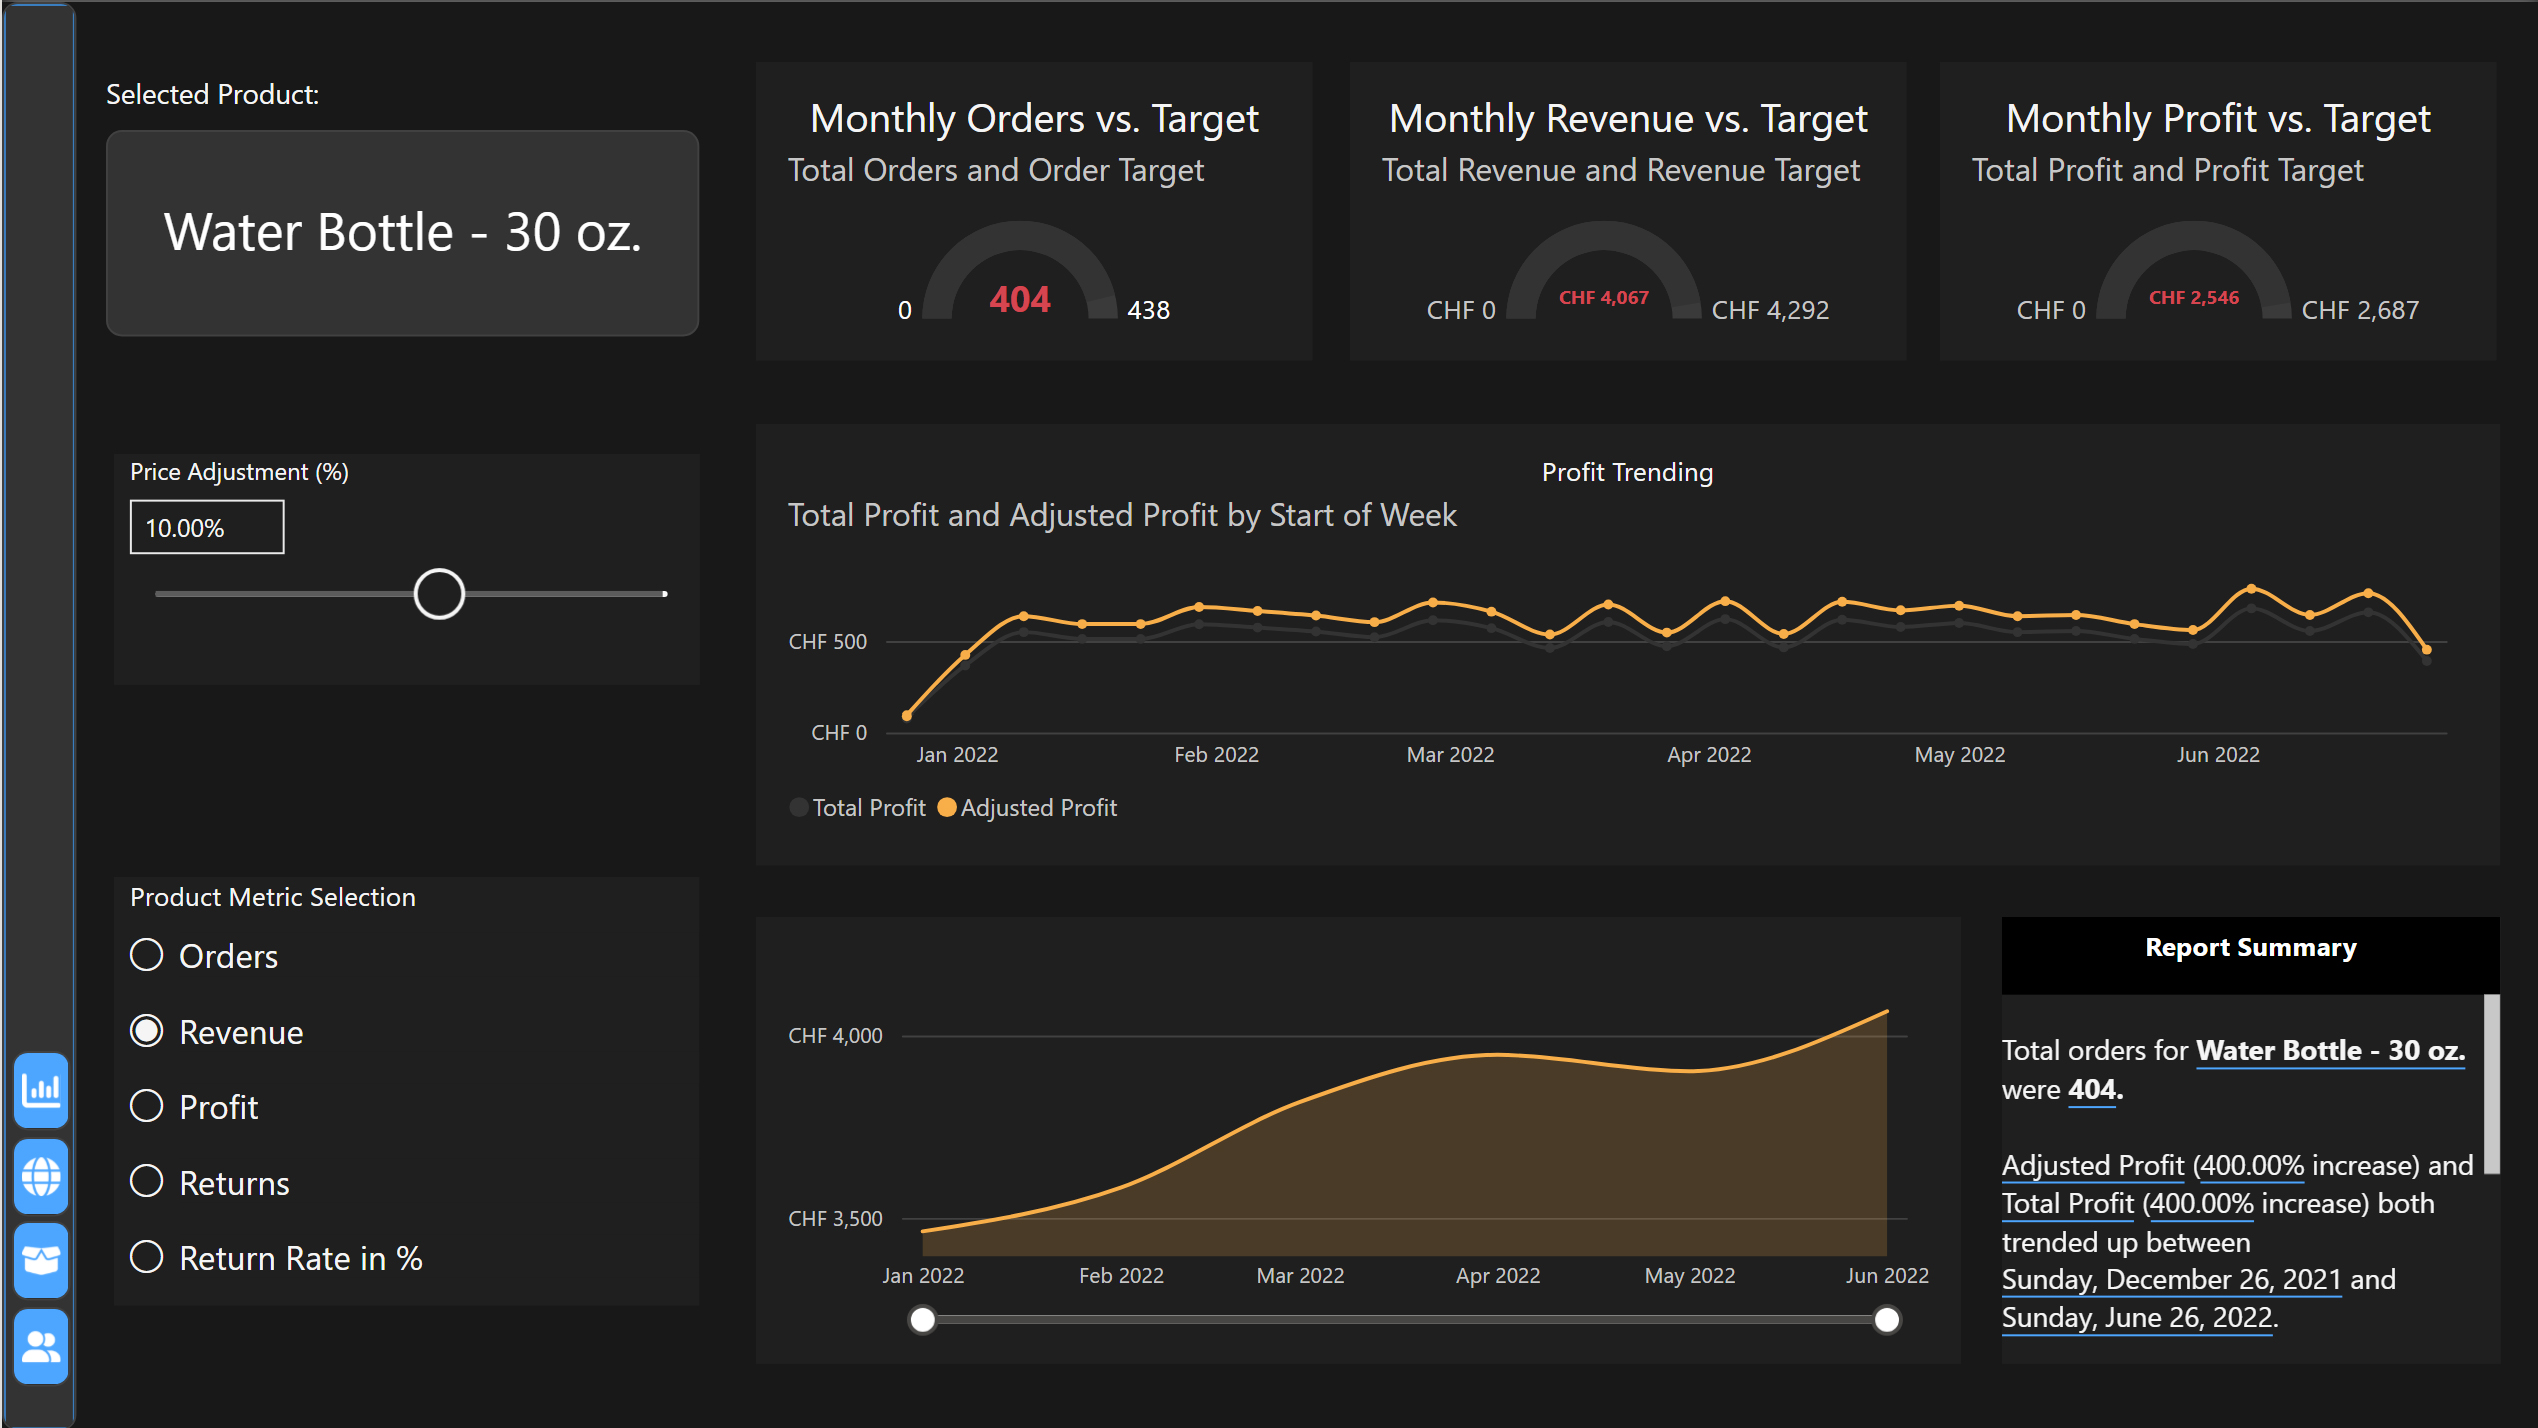

The page's visual inventory and layout, read from the dashboard file:
{"tool":"powerbi","page":{"name":"Product Detail","canvas":[1280,720],"ordinal":2},"visuals":[{"type":"shape","title":"Left Nav Background","box":[0,0,37.7,719.7],"z":0},{"type":"actionButton","box":[4.7,527.8,29.6,39.8],"z":0,"group":"g1"},{"type":"gauge","title":"Monthly Orders vs. Target","fields":{"MaxValue":["Measure Table.Order Target"],"Y":["Measure Table.Total Orders"]},"box":[380,30,280.5,150.3],"z":1000},{"type":"actionButton","box":[4.7,570.6,29.6,39.8],"z":1000,"group":"g1"},{"type":"gauge","title":"Monthly Profit vs. Target","fields":{"MaxValue":["Measure Table.Profit Target"],"Y":["Measure Table.Total Profit"]},"box":[977,30,280.5,150.3],"z":2000},{"type":"actionButton","box":[4.7,613.5,29.6,39.8],"z":2000,"group":"g1"},{"type":"gauge","title":"Monthly Revenue vs. Target","fields":{"MaxValue":["Measure Table.Revenue Target"],"Y":["Measure Table.Total Revenue"]},"box":[679.5,30.1,280.5,150.3],"z":3000},{"type":"actionButton","box":[4.7,656.3,29.6,39.8],"z":3000,"group":"g1"},{"type":"lineChart","title":"Profit Trending","fields":{"Category":["Calendar Lookup.Date Hierarchy.Start of Year","Calendar Lookup.Date Hierarchy.Start of Month","Calendar Lookup.Date Hierarchy.Start of Week","Calendar Lookup.Date Hierarchy.Date"],"Y":["Measure Table.Total Profit","Measure Table.Adjusted Profit"]},"box":[380,213,879,222],"z":4000},{"type":"areaChart","title":"Returns Trending","fields":{"Category":["Calendar Lookup.Date Hierarchy.Start of Year","Calendar Lookup.Date Hierarchy.Start of Month"],"Y":["Measure Table.Total Revenue"]},"box":[380,461,607,225],"z":5000},{"type":"card","fields":{"Values":["Min(Product Lookup.ProductName)"]},"box":[52,64.6,299.1,103.9],"z":6000},{"type":"textbox","box":[52,36.2,299.1,33.1],"z":7000},{"type":"slicer","fields":{"Values":["Price Adjustment (%).Price Adjustment (%)"]},"box":[56,228,295,116],"z":9000},{"type":"slicer","fields":{"Values":["Product Metric Selection.Product Metric Selection"]},"box":[56,440,295,216],"z":10000},{"type":"textbox","title":"Report Summary","box":[1008,461,251,225],"z":11000},{"type":"group","id":"g1","title":"Nav Buttons","box":[4.7,527.8,29.6,168.3],"z":11001}]}

Visuals, with their boxes on the page's 1280x720 design canvas (x1, y1, x2, y2). These are canvas units, not pixel positions in the 2538x1428 screenshot, which may show the page scaled, cropped or inside an application window:
"Left Nav Background" shape: x1=0 y1=0 x2=38 y2=720
actionButton: x1=5 y1=528 x2=34 y2=568
"Monthly Orders vs. Target" gauge: x1=380 y1=30 x2=660 y2=180
actionButton: x1=5 y1=571 x2=34 y2=610
"Monthly Profit vs. Target" gauge: x1=977 y1=30 x2=1258 y2=180
actionButton: x1=5 y1=614 x2=34 y2=653
"Monthly Revenue vs. Target" gauge: x1=680 y1=30 x2=960 y2=180
actionButton: x1=5 y1=656 x2=34 y2=696
"Profit Trending" lineChart: x1=380 y1=213 x2=1259 y2=435
"Returns Trending" areaChart: x1=380 y1=461 x2=987 y2=686
card - Min(Product Lookup.ProductName): x1=52 y1=65 x2=351 y2=168
textbox: x1=52 y1=36 x2=351 y2=69
slicer - Price Adjustment (%).Price Adjustment (%): x1=56 y1=228 x2=351 y2=344
slicer - Product Metric Selection.Product Metric Selection: x1=56 y1=440 x2=351 y2=656
"Report Summary" textbox: x1=1008 y1=461 x2=1259 y2=686
"Nav Buttons" group: x1=5 y1=528 x2=34 y2=696
